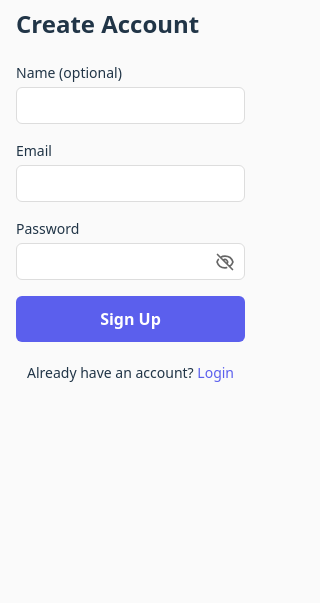
Test case: Signup Page › Password Validation Errors › displays user already exists error
The width and height of the screenshot is (320, 603).
In the field labelled "Email": (130,184) top-left (16, 165), bottom-right (245, 202), type "existing@test.com"
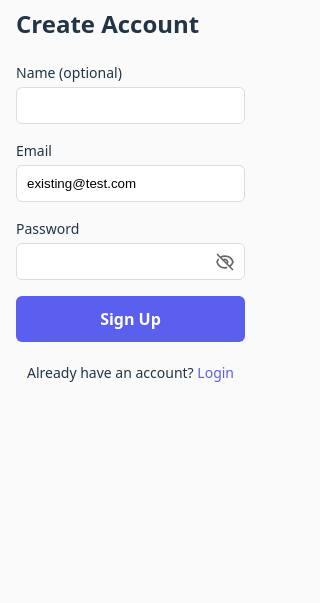
In the password field labelled "Password": (130,262) top-left (16, 243), bottom-right (245, 280), type "MySecure123"
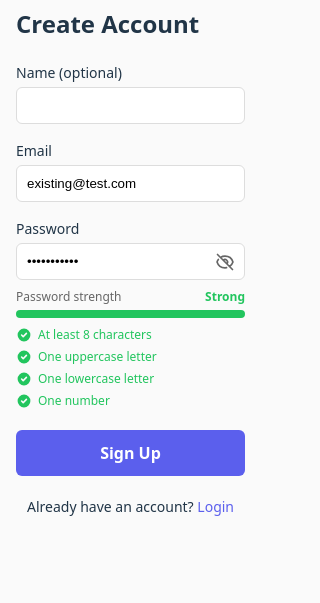
Click the button "Sign Up": (130,453) top-left (16, 430), bottom-right (245, 476)
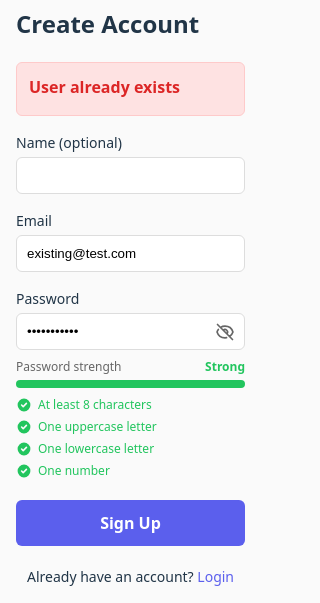
Result: the text "User already exists" is shown at top-left (29, 76), bottom-right (180, 98)
